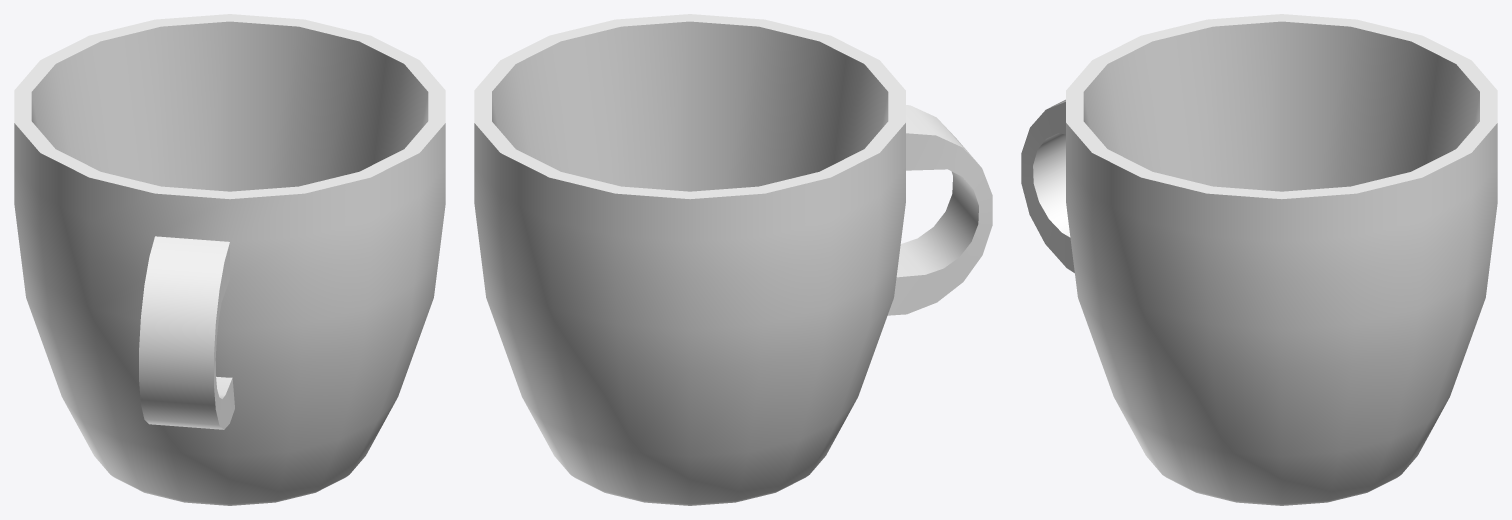
File: Cup.FBX
The picture shows the model from 3 angles, left to right: view 1: azimuth 30°, elevation 25°; view 2: azimuth 150°, elevation 25°; view 3: azimuth 270°, elevation 25°; orthographic projection.
Parts seen in each view (by area): view 1: cup; view 2: cup; view 3: cup.
Part boxes in pixels (x1=…): cup: x1=14, y1=14, x2=445, y2=505; cup: x1=474, y1=14, x2=992, y2=505; cup: x1=1021, y1=14, x2=1497, y2=505.
Size of the model in its own units: 154 by 131 by 165.
1 material, 1 textured.
